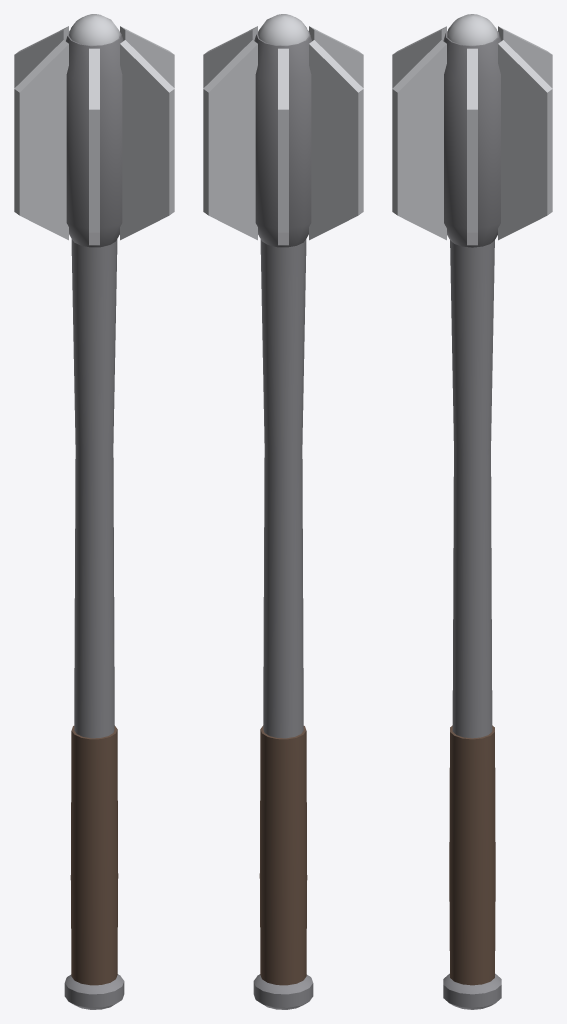
Rendered from mace.glb.
The picture shows the model from 3 angles, left to right: view 1: azimuth 30°, elevation 25°; view 2: azimuth 150°, elevation 25°; view 3: azimuth 270°, elevation 25°; orthographic projection.
Visible parts, largest first — view 1: OUT; view 2: OUT; view 3: OUT.
Part boxes in pixels (<box>): OUT: <box>14,14,174,1009</box>; OUT: <box>203,14,363,1009</box>; OUT: <box>392,14,552,1009</box>.
Bounding box in the file's own units: 0.132 × 0.8 × 0.1183.
